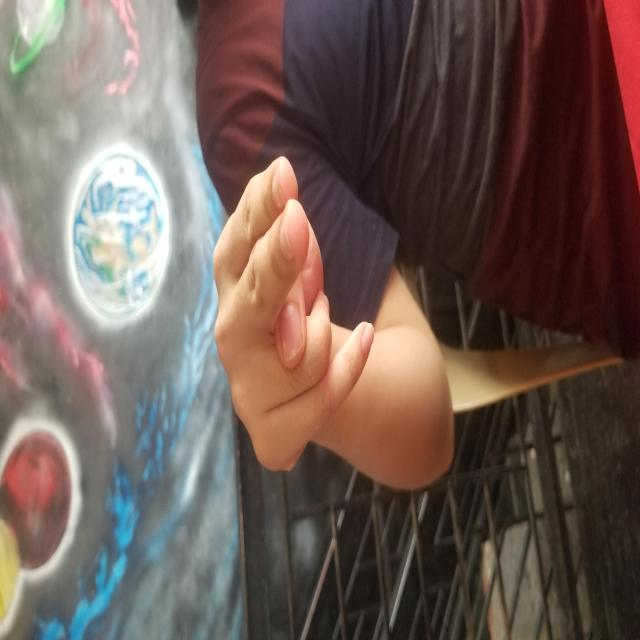N: (165, 211, 485, 375)
